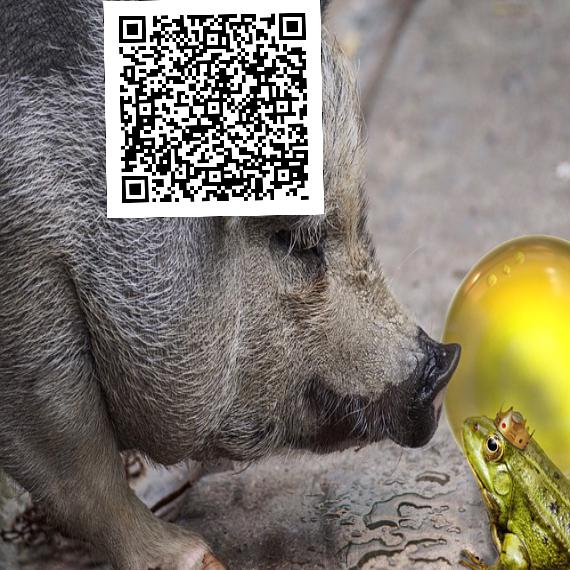qr_code: (103, 0, 323, 218)
